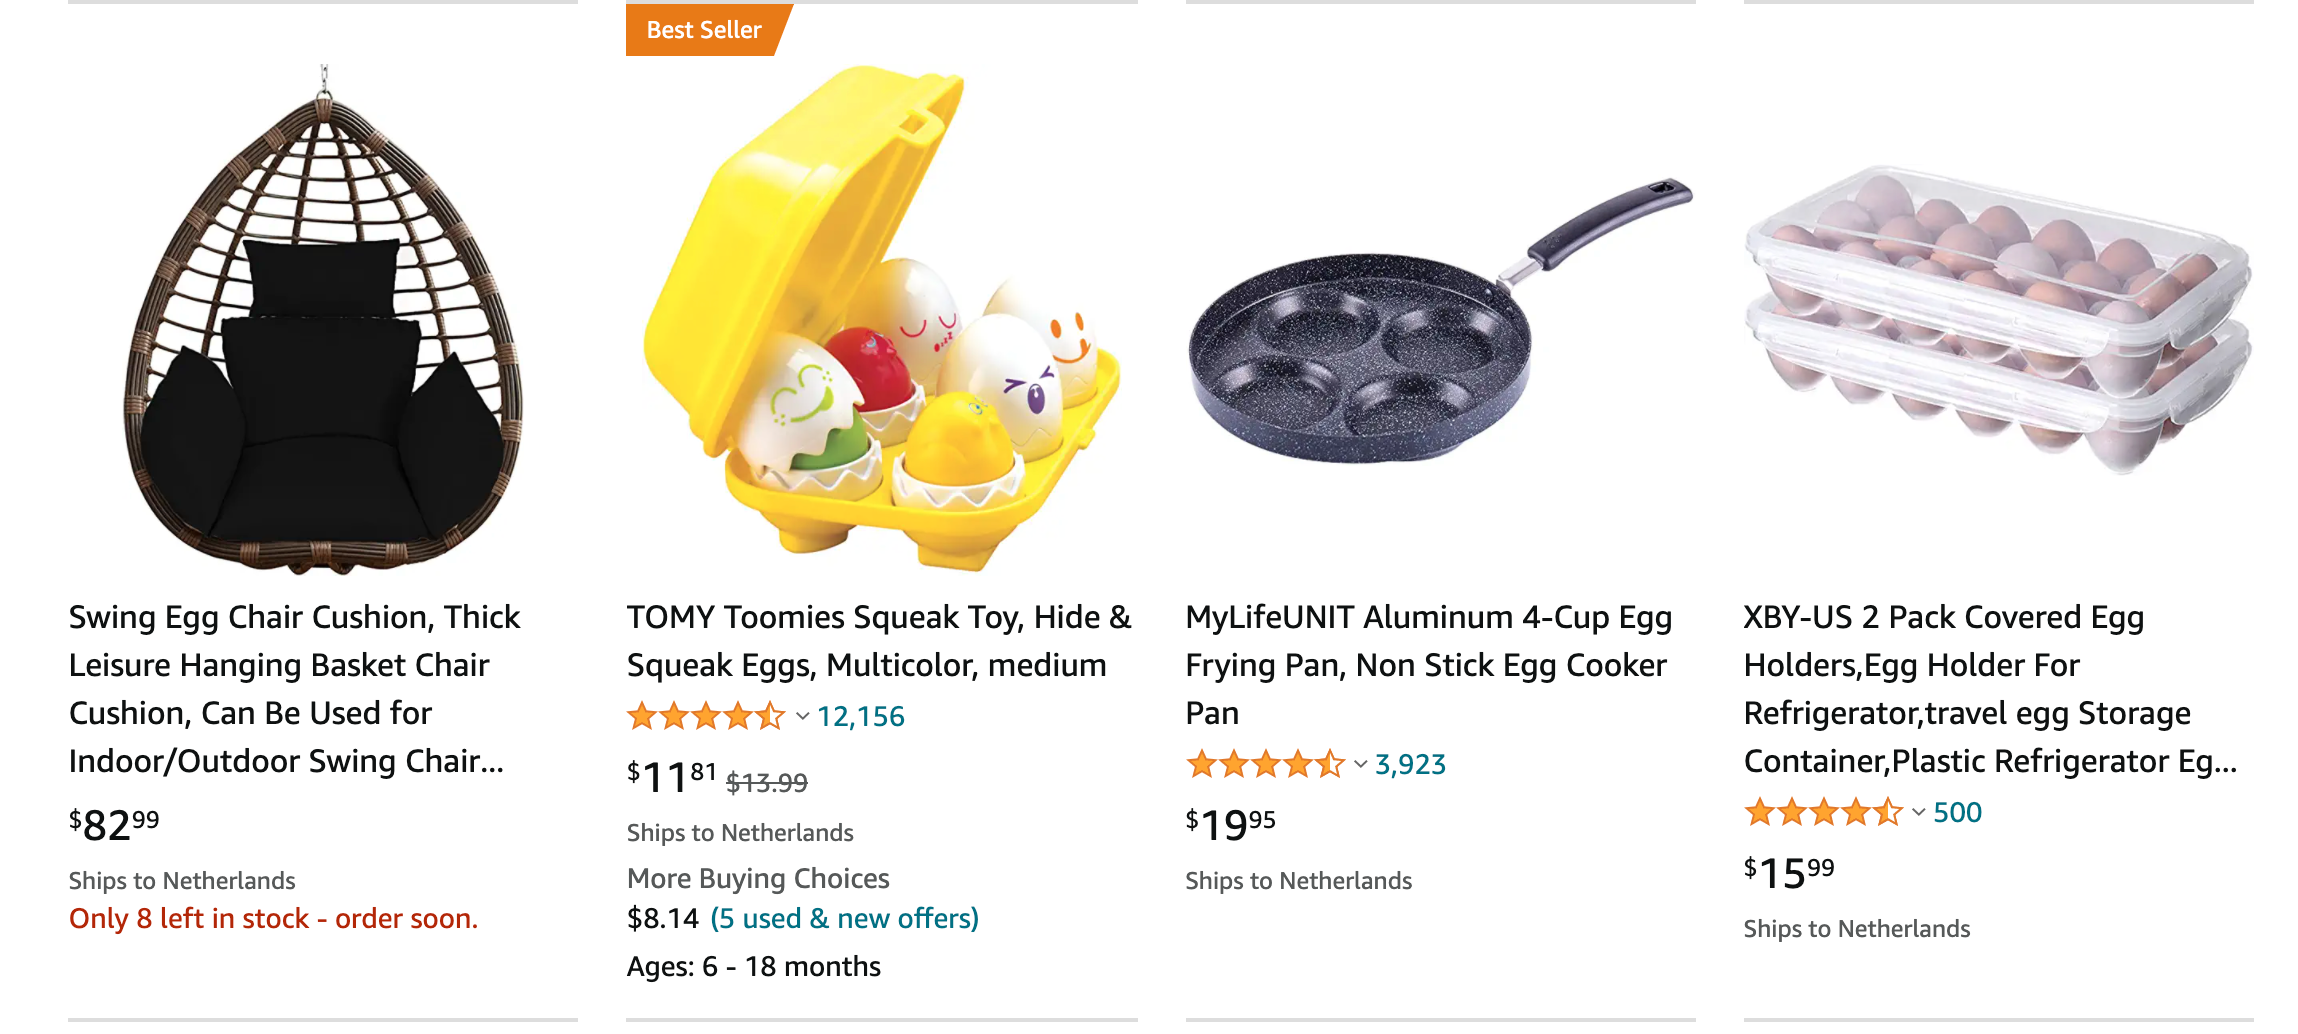Product: (15, 7, 602, 1019), (1721, 4, 2298, 1033), (1146, 7, 1718, 1033), (617, 10, 1161, 1025)
Product Image: (12, 4, 602, 596), (1723, 13, 2298, 599), (1161, 7, 1706, 596), (620, 7, 1153, 593)
Product Name: (18, 596, 602, 795), (1723, 593, 2294, 789), (1161, 596, 1723, 693), (611, 593, 1149, 693)
Product Price: (23, 795, 303, 860), (1723, 833, 1877, 905), (1174, 785, 1309, 852), (614, 740, 723, 810)
